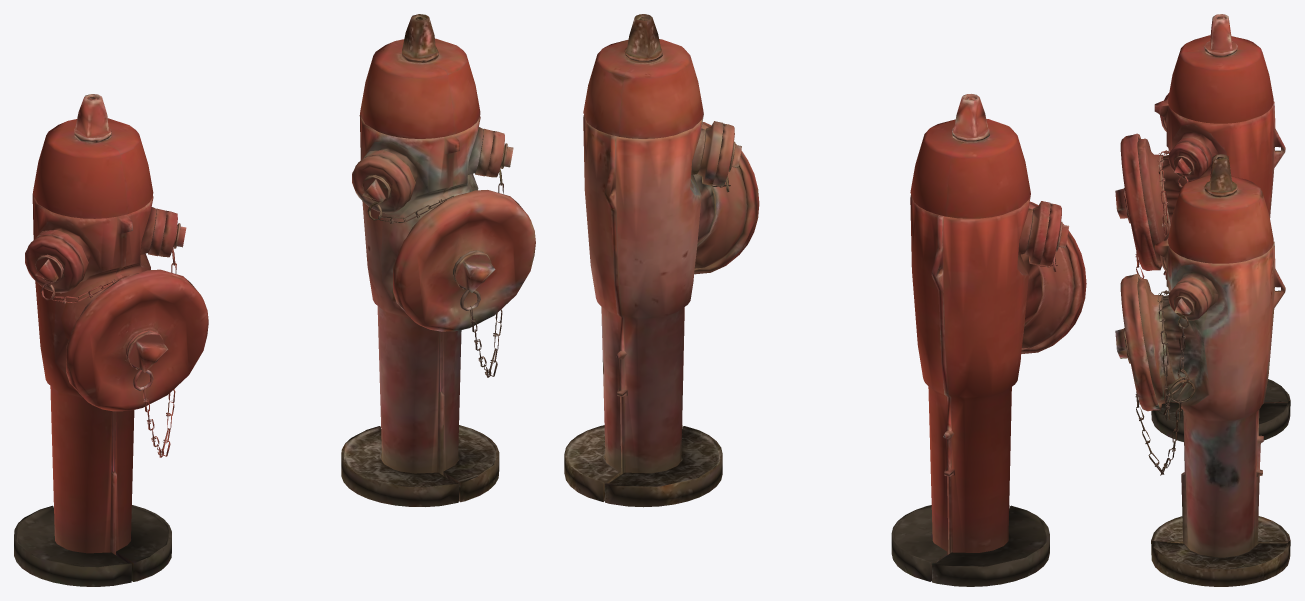
File: fire_hydrant.glb
3 renders of one model, left to right at view 1: azimuth 30°, elevation 25°; view 2: azimuth 150°, elevation 25°; view 3: azimuth 270°, elevation 25°, orthographic. The views are drawn at different scales.
Visible parts, largest first — view 1: fire_hydrant_aged, fire_hydrant; view 2: fire_hydrant, fire_hydrant_aged; view 3: fire_hydrant_aged, fire_hydrant.
Part boxes in pixels (bbox=[...]): fire_hydrant_aged: bbox=[341, 14, 535, 506]; fire_hydrant: bbox=[14, 94, 208, 586]; fire_hydrant: bbox=[891, 94, 1086, 586]; fire_hydrant_aged: bbox=[564, 14, 759, 507]; fire_hydrant_aged: bbox=[1115, 154, 1290, 586]; fire_hydrant: bbox=[1115, 14, 1290, 441].
Bounding box in the file's own units: 0.8745 × 0.7994 × 0.3173.
Materials: 2 (2 with a texture image).
